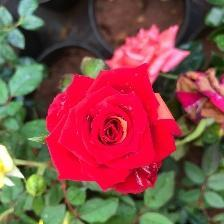rose: (44, 65, 182, 198)
